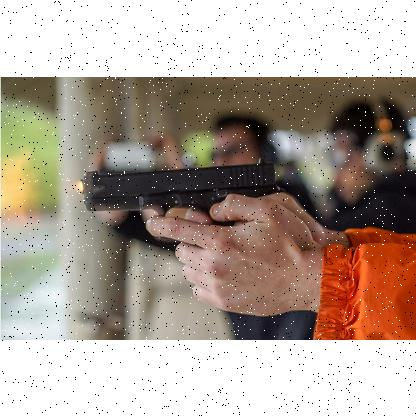gun: (77, 156, 285, 309)
